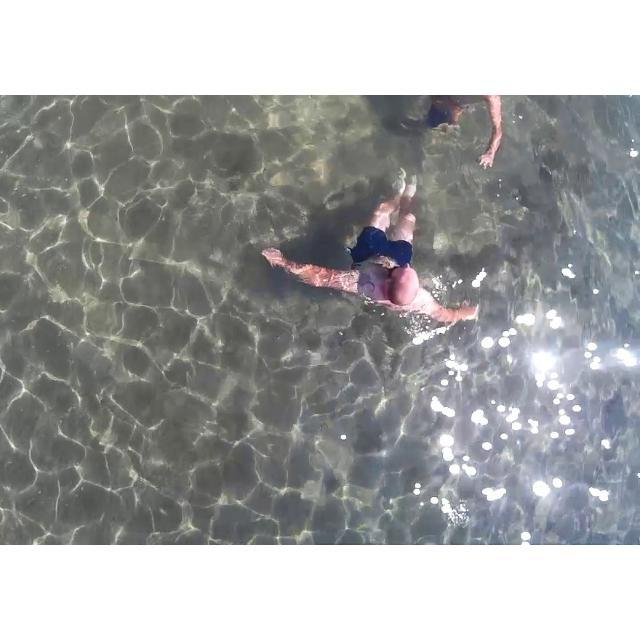human: (271, 160, 483, 344), (368, 95, 511, 174)
